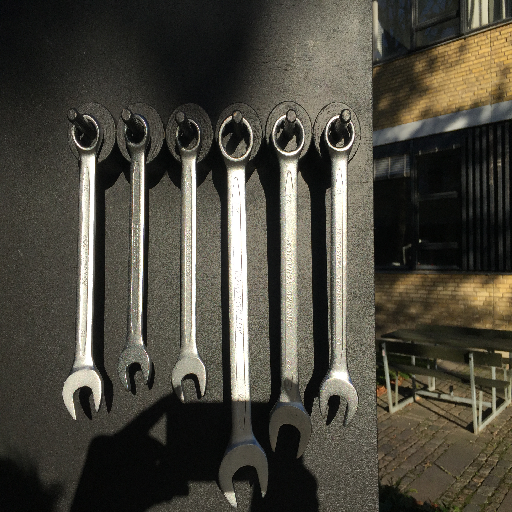bottom: (217, 439, 270, 508), (266, 399, 313, 460), (317, 370, 359, 428), (62, 366, 105, 420), (170, 354, 209, 404), (116, 345, 153, 391)
top: (216, 112, 256, 166), (270, 113, 308, 160), (69, 111, 105, 155), (322, 114, 358, 155), (121, 112, 152, 153), (173, 118, 204, 157)
